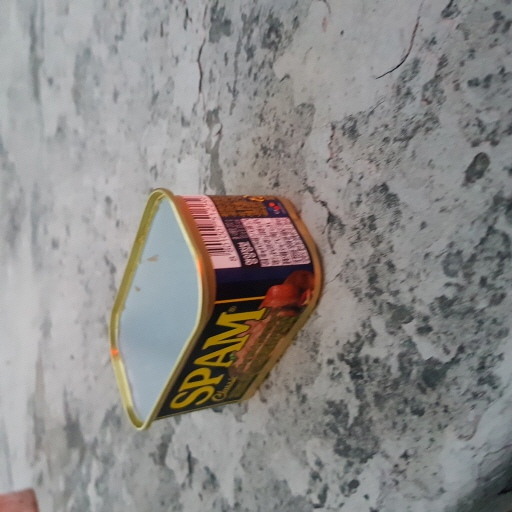Metal_2: (105, 186, 328, 434)
